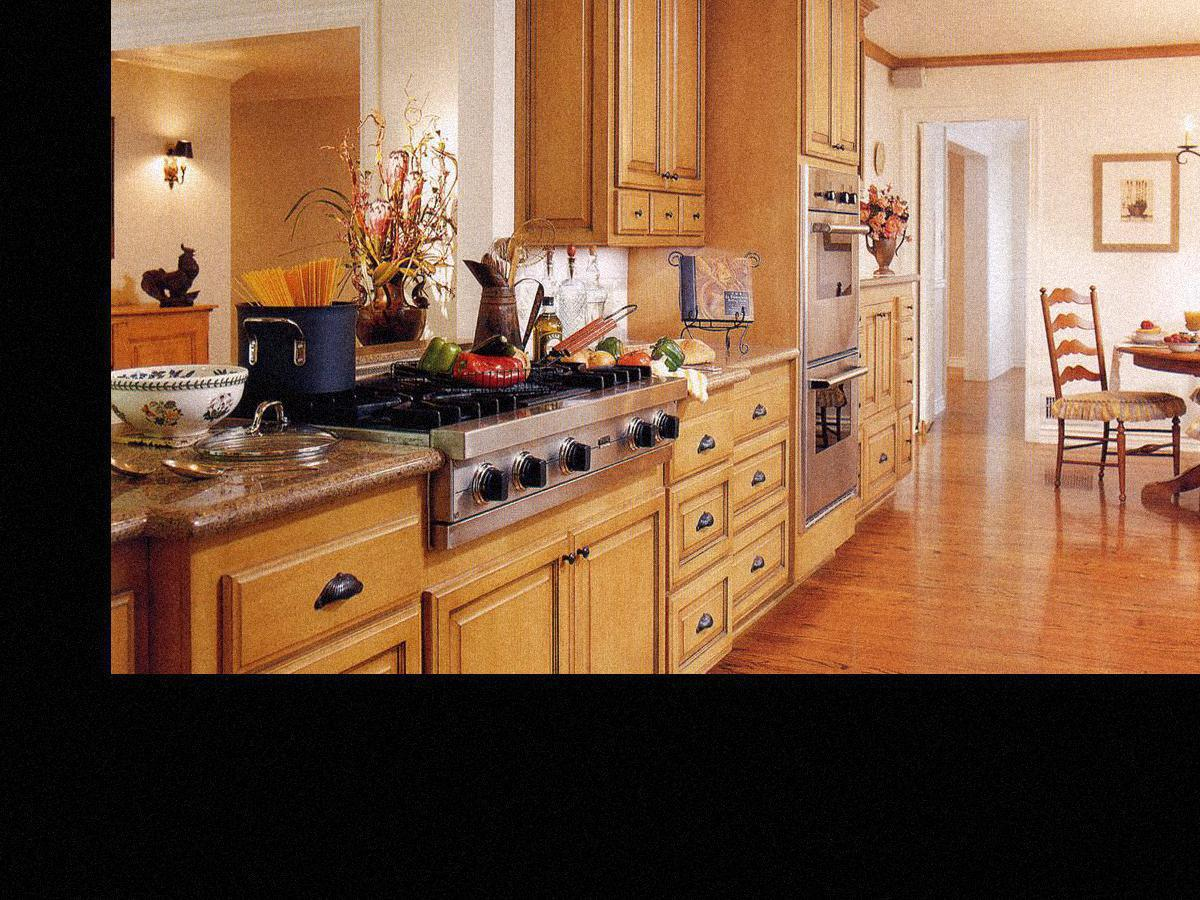Electrodomestico: (303, 378, 671, 522), (807, 167, 859, 514)
